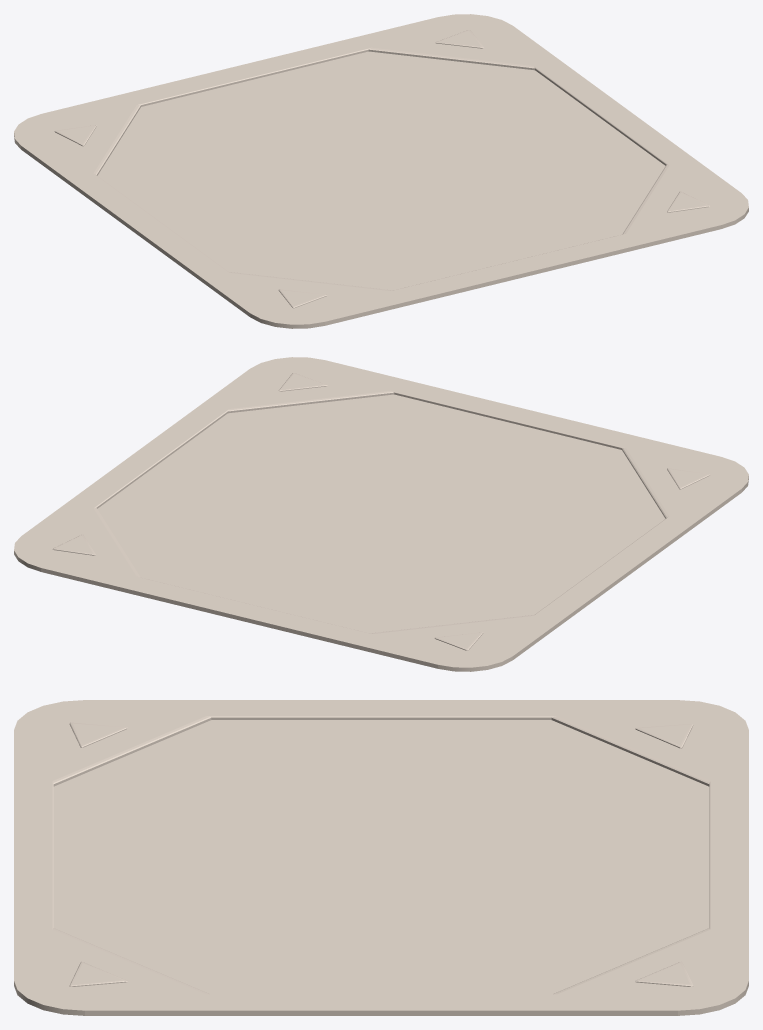
The model's file is Floor_05_Large.fbx.
3 renders of one model, top to bottom at view 1: azimuth 30°, elevation 25°; view 2: azimuth 150°, elevation 25°; view 3: azimuth 270°, elevation 25°, orthographic. The views are drawn at different scales.
Parts seen in each view (by area): view 1: floor_5; view 2: floor_5; view 3: floor_5.
Part boxes in pixels (<box>): floor_5: <box>14,14,748,328</box>; floor_5: <box>14,357,748,671</box>; floor_5: <box>14,700,748,1015</box>.
Size of the model in its own units: 1800 by 18.18 by 1800.
